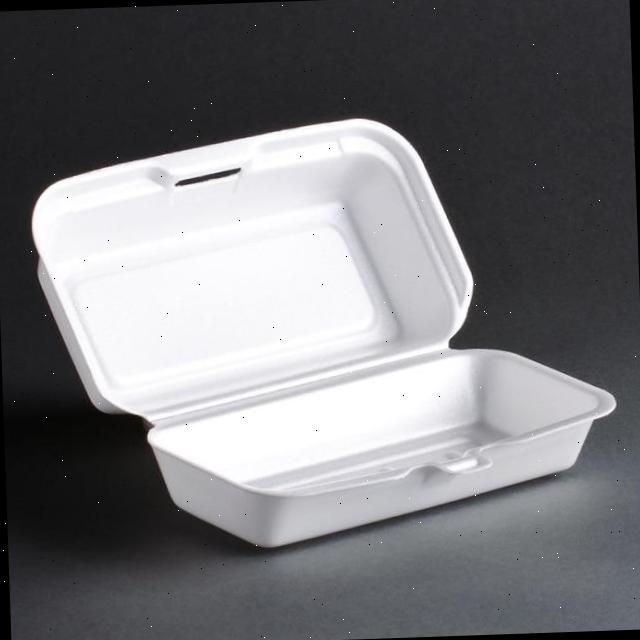styrofoam: (26, 106, 621, 557)
